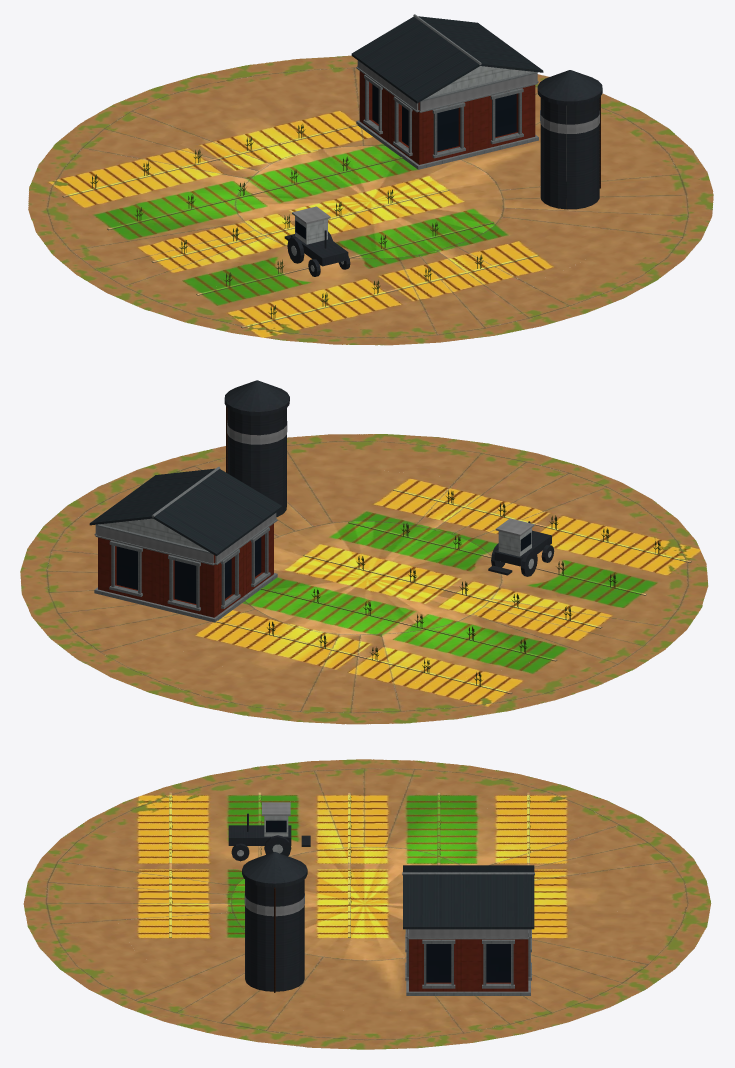
The model's file is farm-modern.glb.
3 views of the same model, one above another, from view 1: azimuth 30°, elevation 25°; view 2: azimuth 150°, elevation 25°; view 3: azimuth 270°, elevation 25° (orthographic).
Parts seen in each view (by area): view 1: LOD0; view 2: LOD0; view 3: LOD0.
Part boxes in pixels (x1,y1,x2,y2): LOD0: (28, 14, 713, 345); LOD0: (20, 380, 708, 724); LOD0: (23, 759, 711, 1049).
Size of what is drawn, in the model's own units: 4.74 by 0.94 by 4.74.
Materials: 3 (3 with a texture image).
